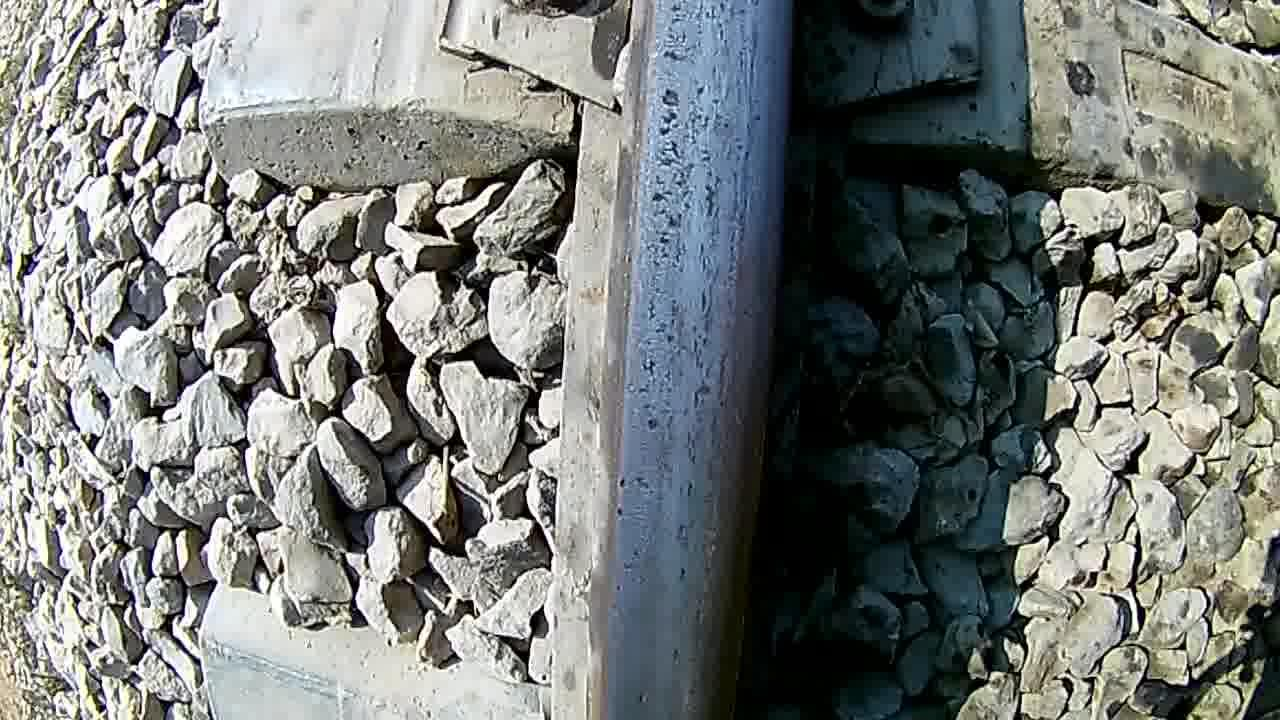crack: (597, 1, 788, 720)
